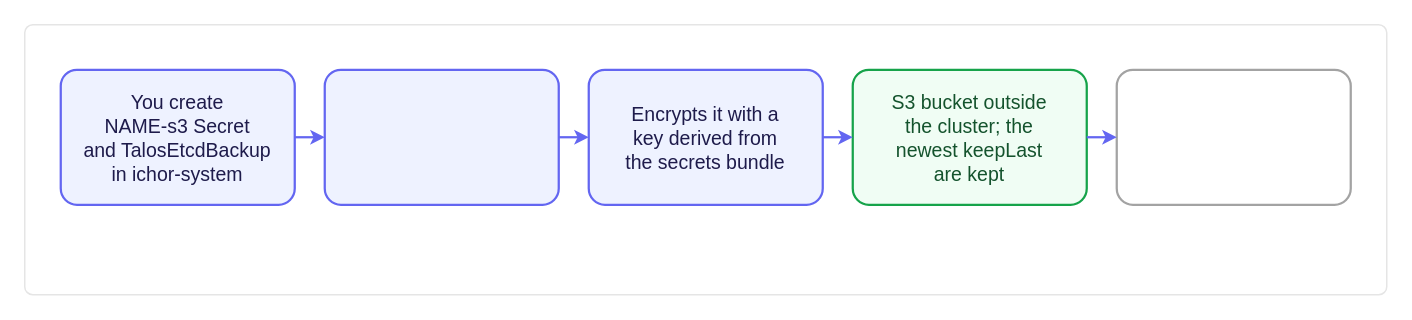
Some shapes in this 1412 by 320 pixel diagram are drawn without their labels. The centre of each missing label's shape, as x and y in pixels:
"Controller takes a snapshot at once, then on the cron schedule (UTC)" belongs at (441,136).
"ichor restore etcd and restore cluster read it, with the bundle" belongs at (1233,136).
